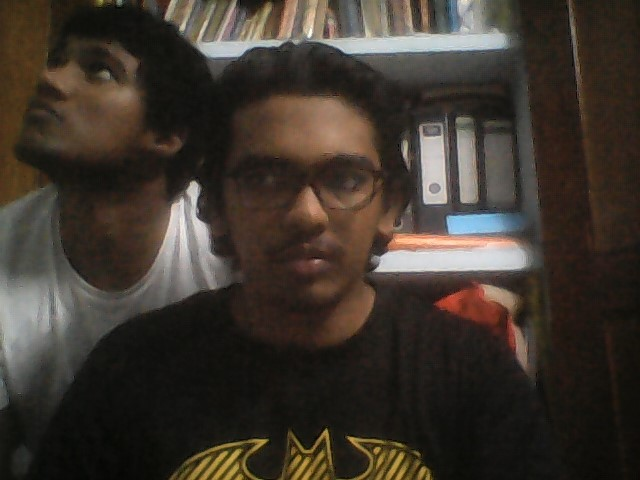person: (155, 40, 457, 441), (1, 7, 222, 350)
